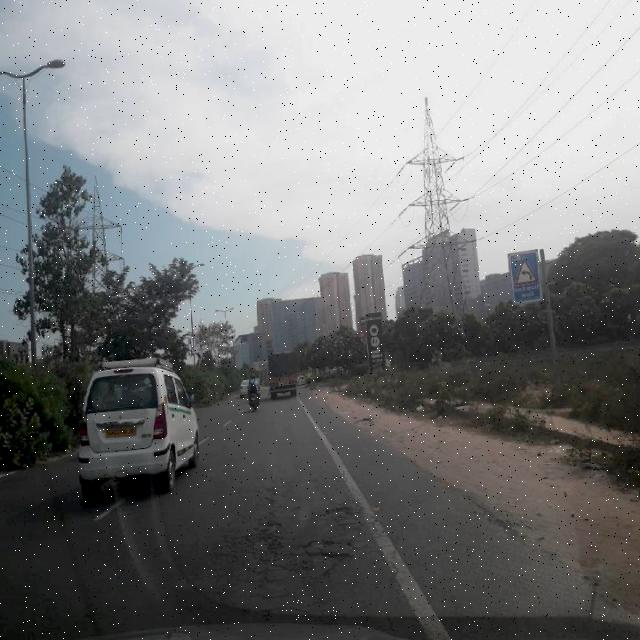D20: (188, 450, 484, 632)
D40: (300, 533, 366, 593), (248, 522, 284, 560), (326, 498, 358, 524)
